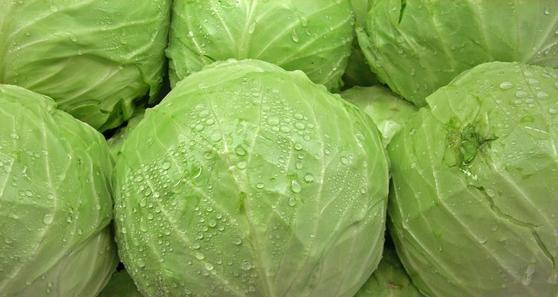cabbage: (102, 62, 394, 297), (384, 56, 554, 297), (2, 75, 129, 293)
